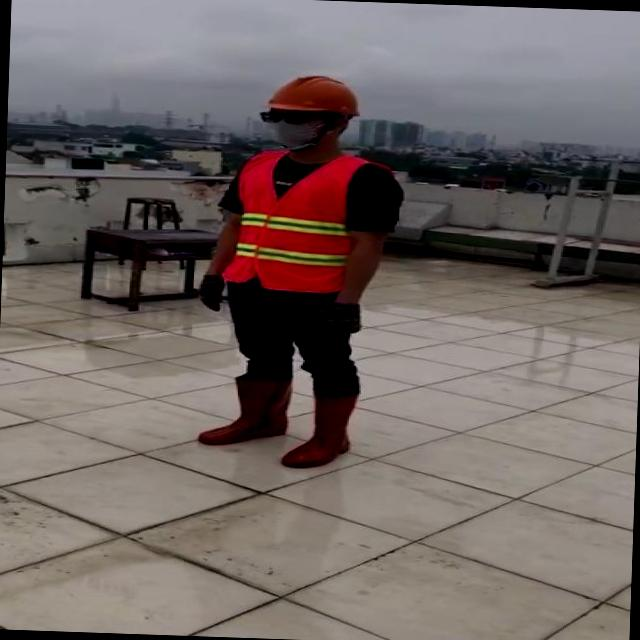boots: (277, 389, 373, 477), (192, 371, 294, 452)
gloves: (305, 288, 372, 342), (178, 263, 232, 317)
helmet: (264, 68, 364, 116)
vest: (220, 146, 392, 296)
